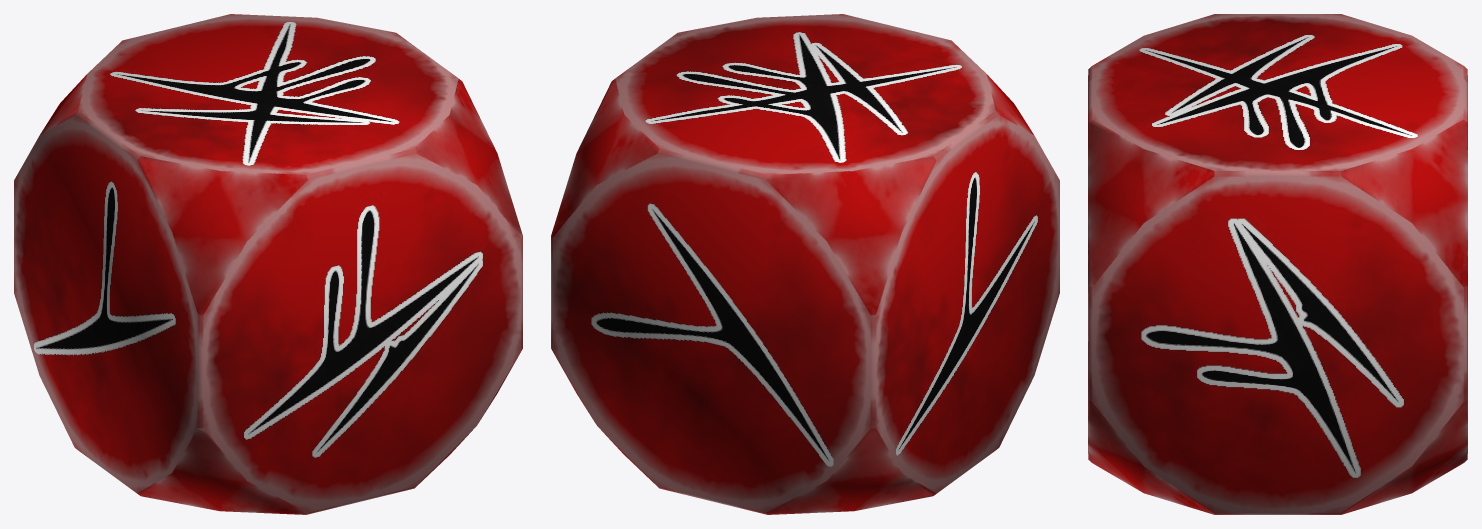
The model's file is blood_dice.gltf.
3 renders of one model, left to right at view 1: azimuth 30°, elevation 25°; view 2: azimuth 150°, elevation 25°; view 3: azimuth 270°, elevation 25°, orthographic.
Visible parts, largest first — view 1: d6_geo; view 2: d6_geo; view 3: d6_geo.
Part boxes in pixels (box(x1,y1,x2,y2)): d6_geo: box(14, 14, 522, 514); d6_geo: box(551, 14, 1059, 514); d6_geo: box(1088, 14, 1467, 514).
Bounding box in the file's own units: 104 × 104 × 104.
1 material, 1 textured.
